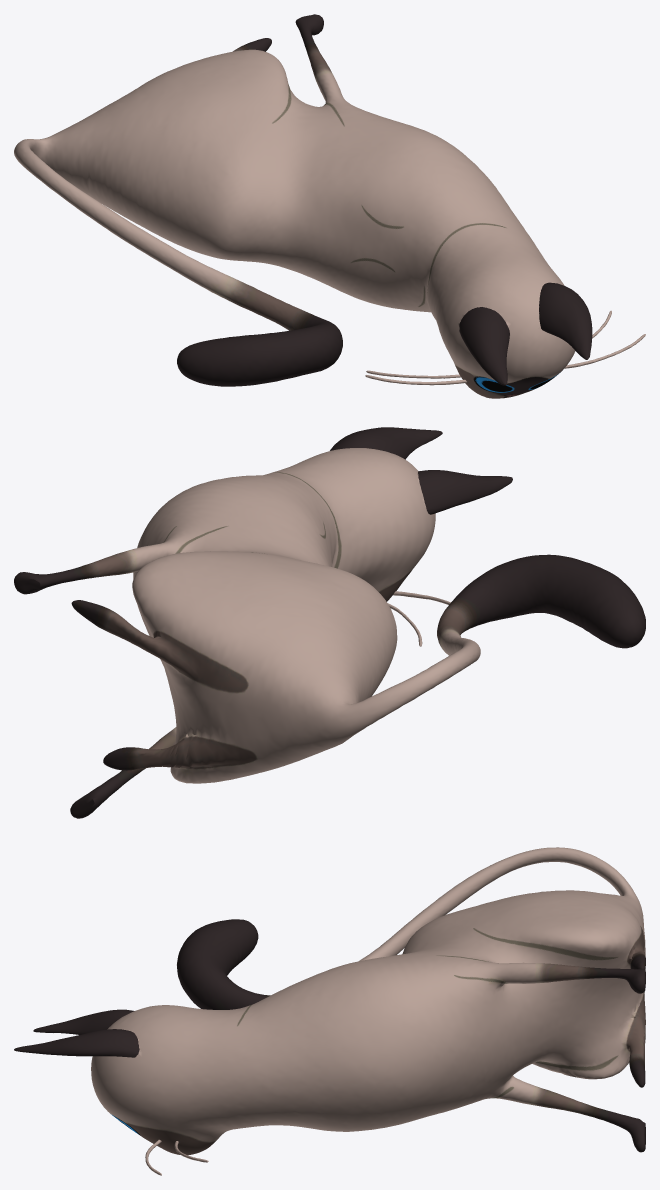
The model's file is cute_siamese_cat.glb.
3 renders of one model, top to bottom at view 1: azimuth 30°, elevation 25°; view 2: azimuth 150°, elevation 25°; view 3: azimuth 270°, elevation 25°, orthographic. The views are drawn at different scales.
Parts seen in each view (by area): view 1: Object_2; view 2: Object_2; view 3: Object_2.
Part boxes in pixels (x1,y1,x2,y2): Object_2: (14,14,645,398); Object_2: (14,427,645,818); Object_2: (14,847,645,1175).
Size of the model in its own units: 390 by 183 by 512.
1 material, 1 textured.
